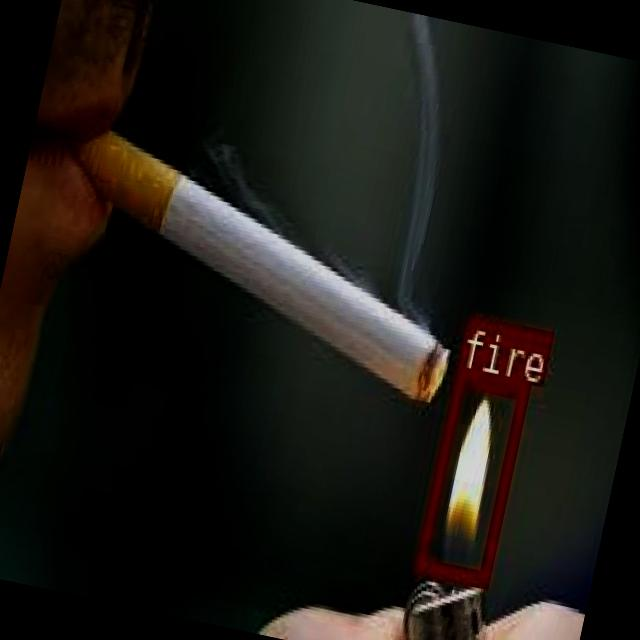fire: (413, 368, 528, 586)
